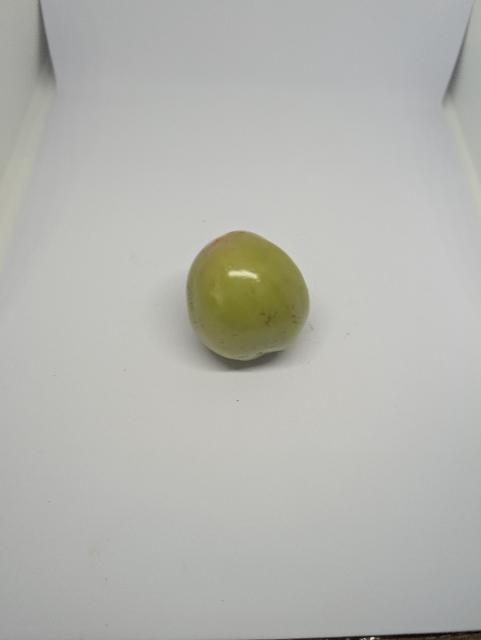green: (164, 219, 317, 379)
